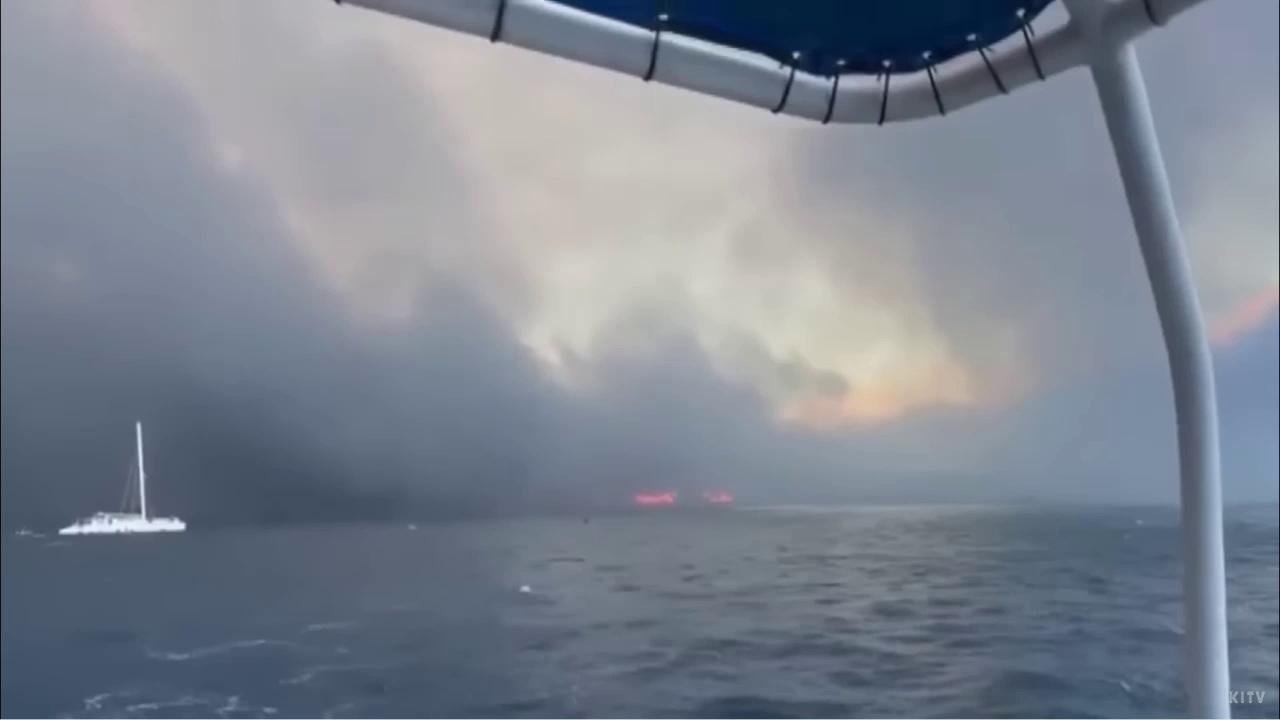fire: (632, 490, 679, 506), (704, 491, 737, 505)
smoke: (0, 0, 1280, 518)
